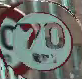Speed limit: (7, 7, 73, 77)
